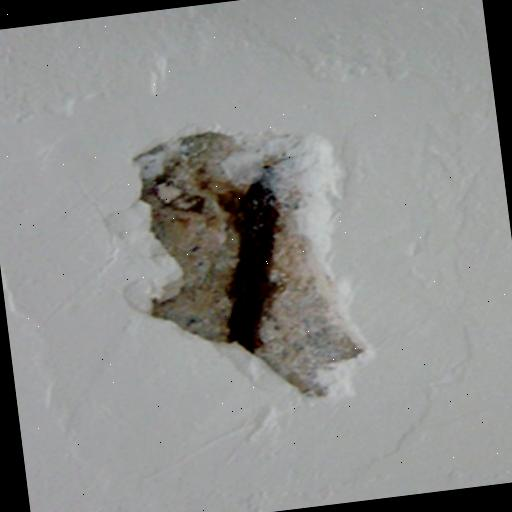spalling: (127, 114, 377, 404)
